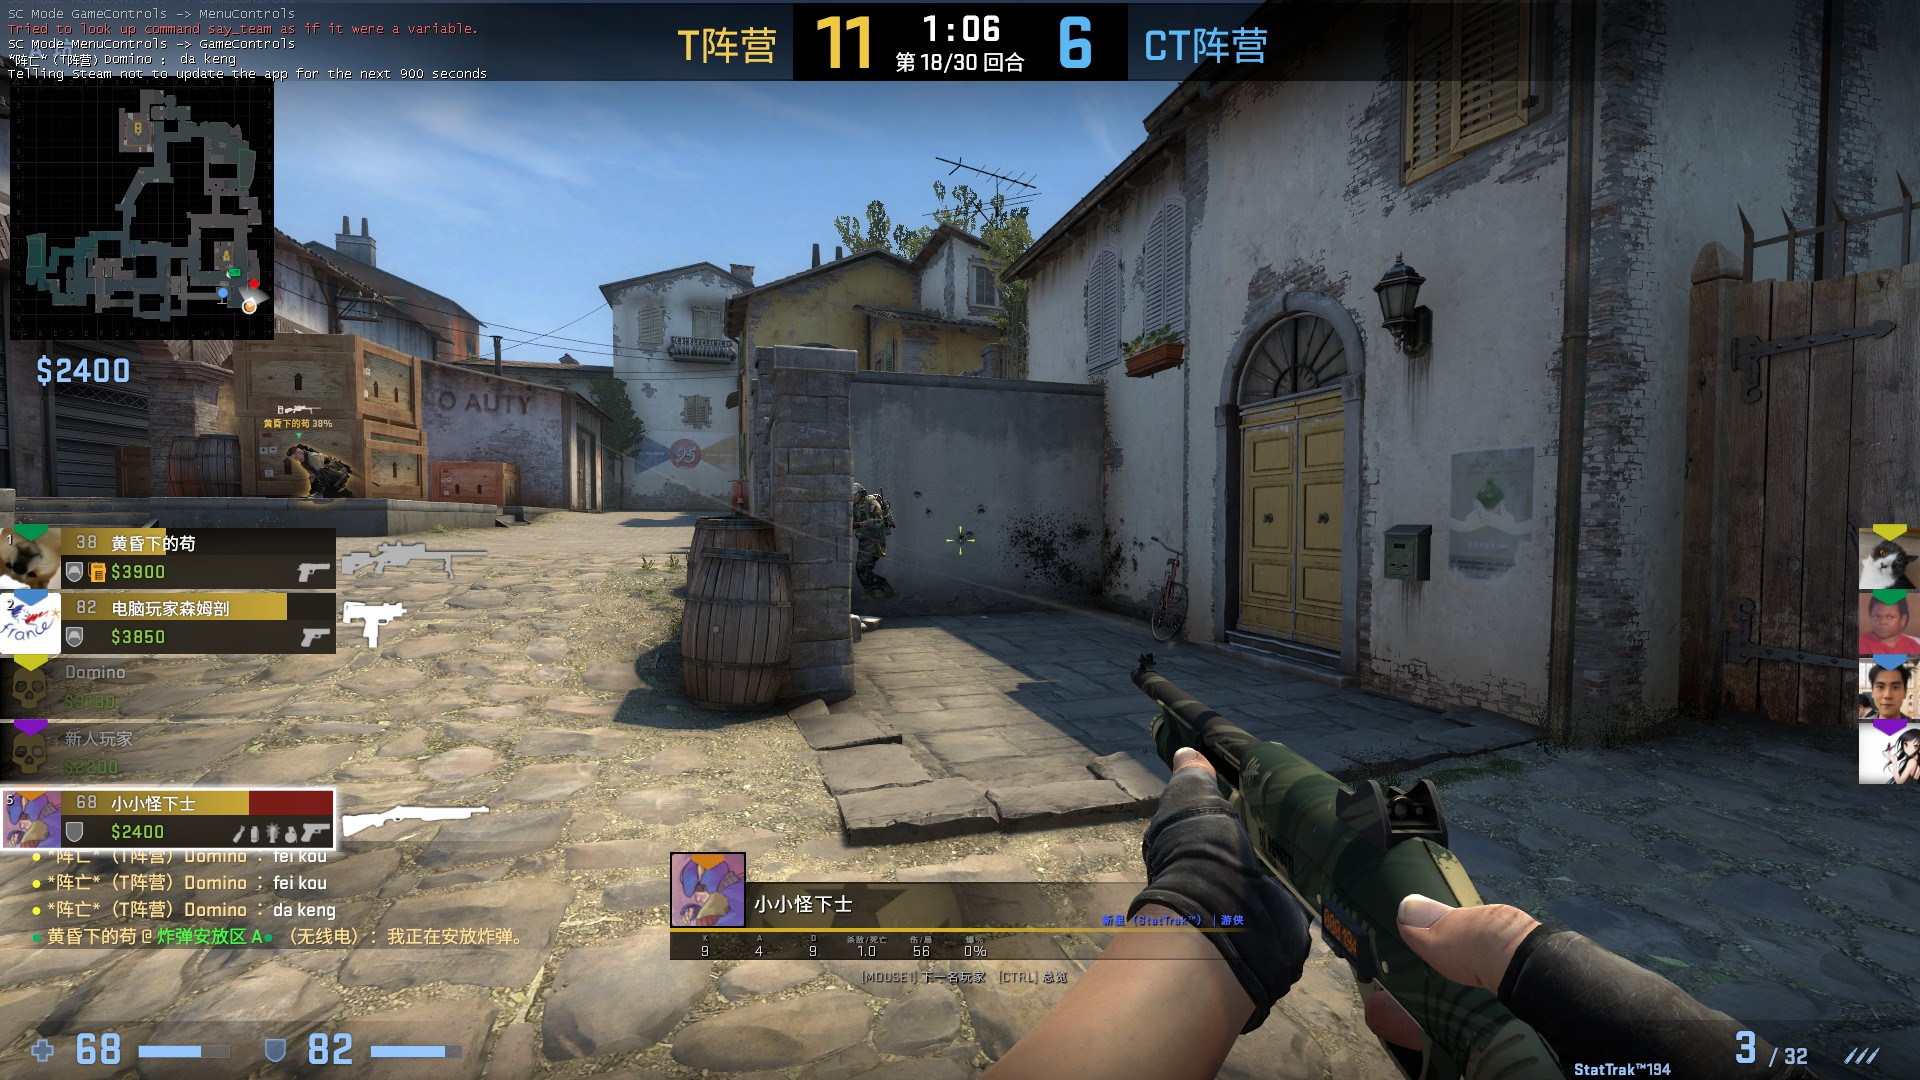head: (284, 439, 307, 465), (848, 482, 866, 508)
